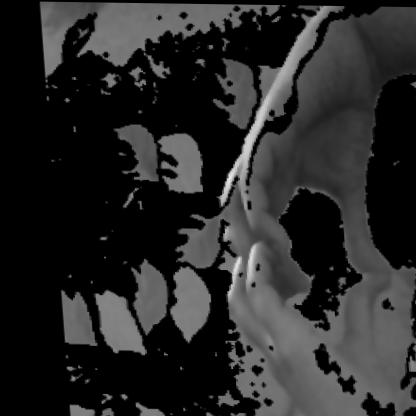heart: (185, 22, 394, 413)
